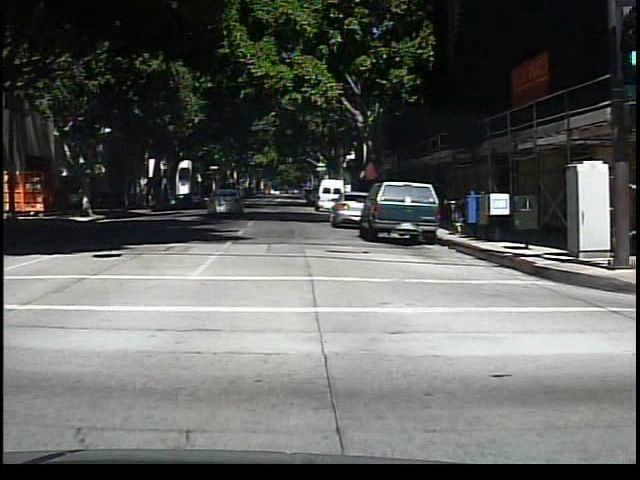person: (68, 184, 84, 219)
